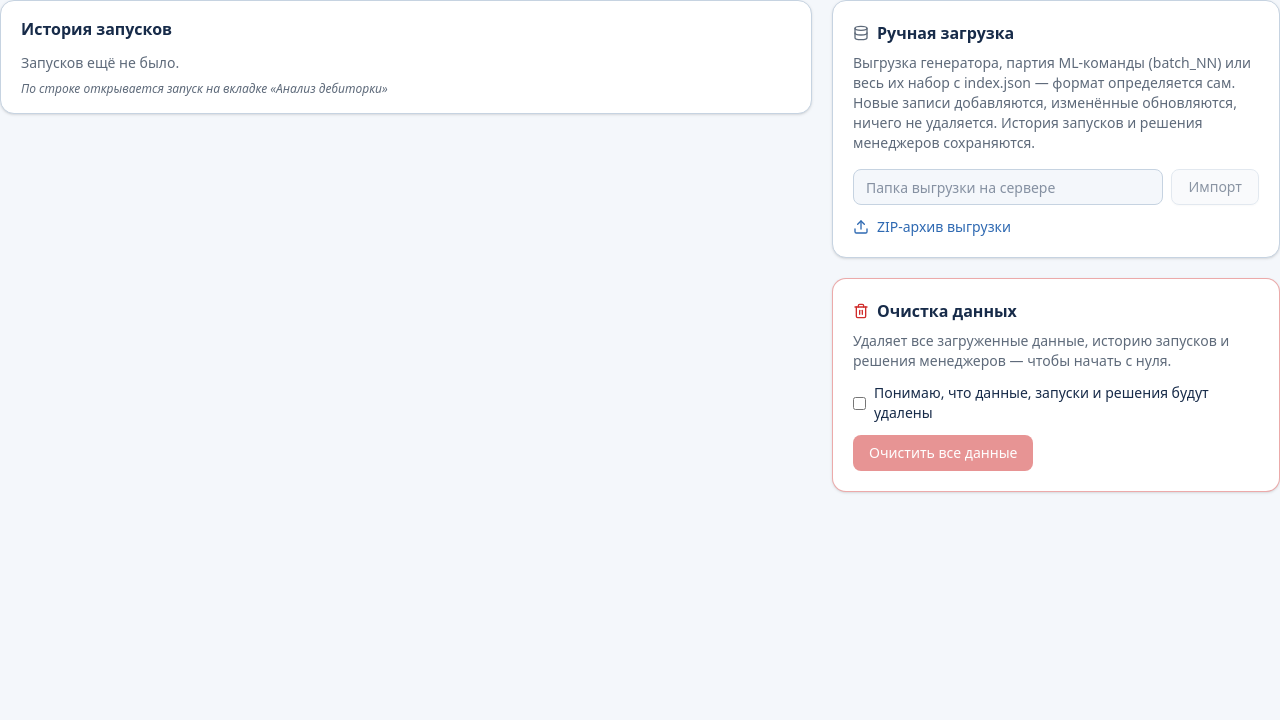
Test: HistoryPage › очистка данных - отдельно и только с подтверждением
Expected: the button "Очистить все данные" is disabled, [853,435,1034,471]
Click the checkbox labelled "Понимаю, что данные, запуски и решения будут удалены": (860, 403) [853,396,866,410]
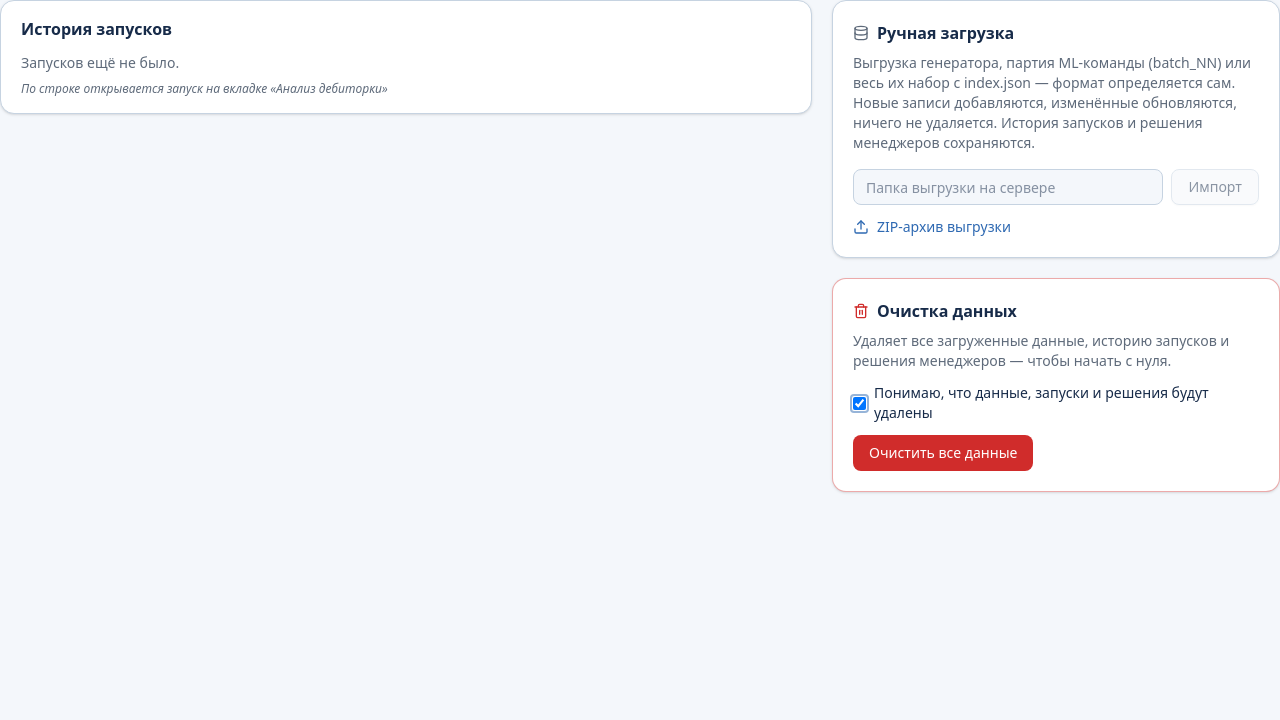
Click the button "Очистить все данные": (943, 453) [853,435,1034,471]
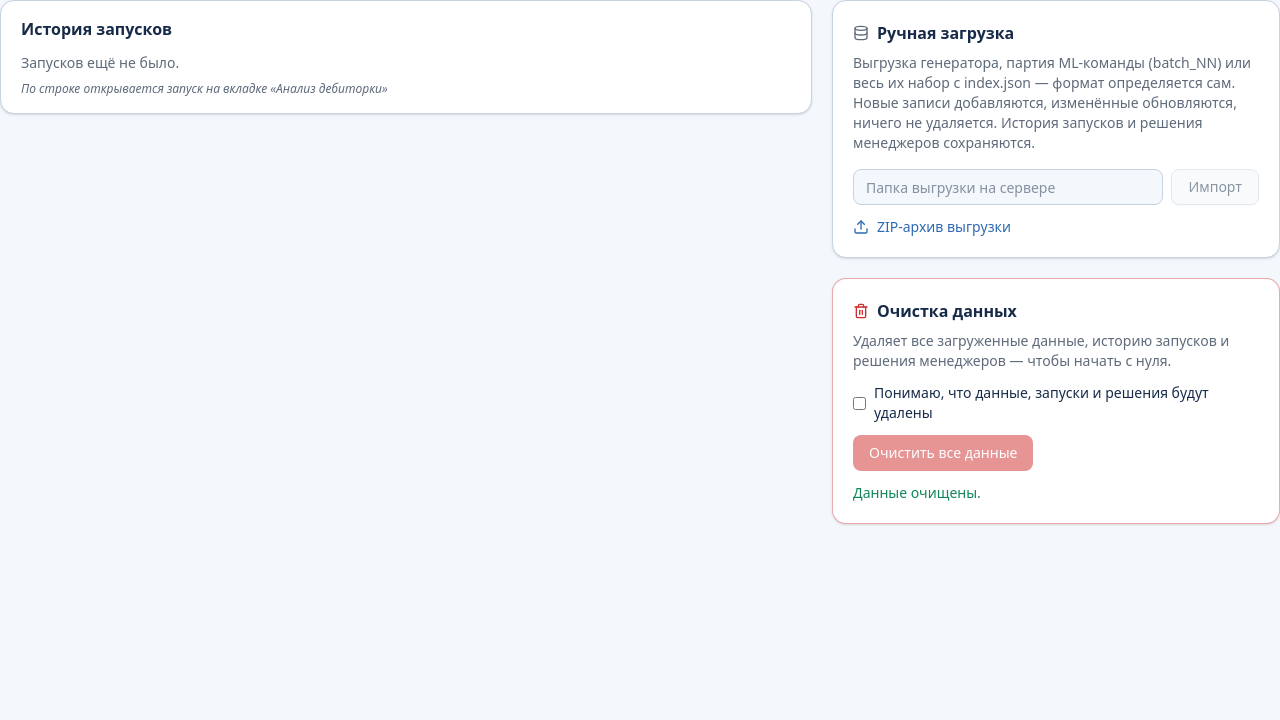
Now the text "Данные очищены." is shown, box [853,483,981,502]
